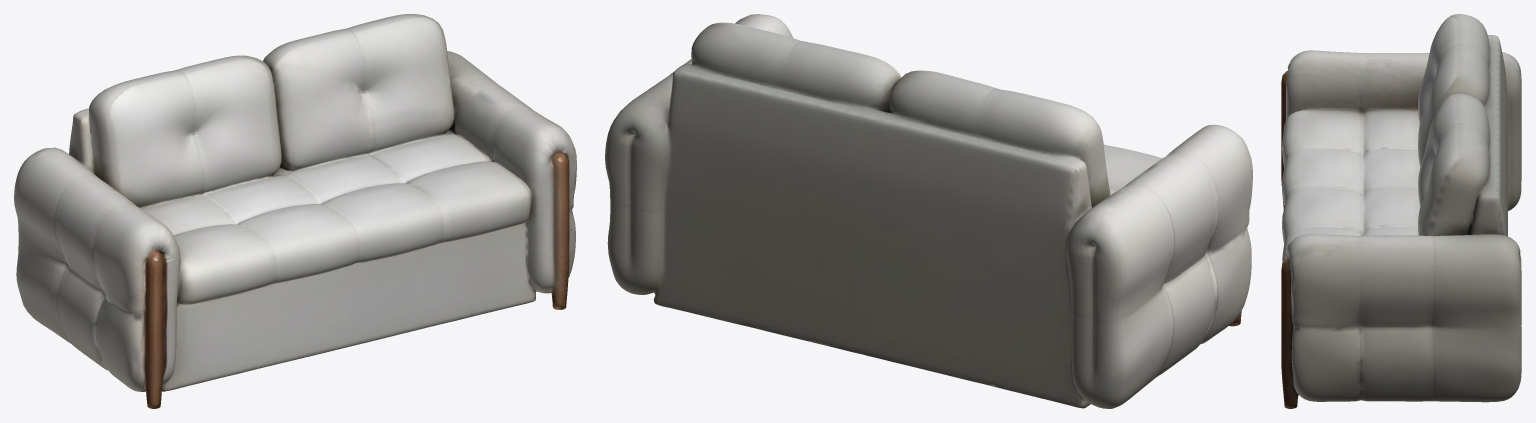
Rendered from web.glb.
3 renders of one model, left to right at view 1: azimuth 30°, elevation 25°; view 2: azimuth 150°, elevation 25°; view 3: azimuth 270°, elevation 25°, orthographic. The views are drawn at different scales.
Visible parts, largest first — view 1: model; view 2: model; view 3: model.
Boxes of the visible parts, box(x1,y1,x2,y2) form: model: box(14, 14, 576, 408); model: box(605, 14, 1252, 408); model: box(1281, 14, 1521, 408).
Bounding box in the file's own units: 2 × 1.01 × 0.9613.
1 material, 1 textured.
